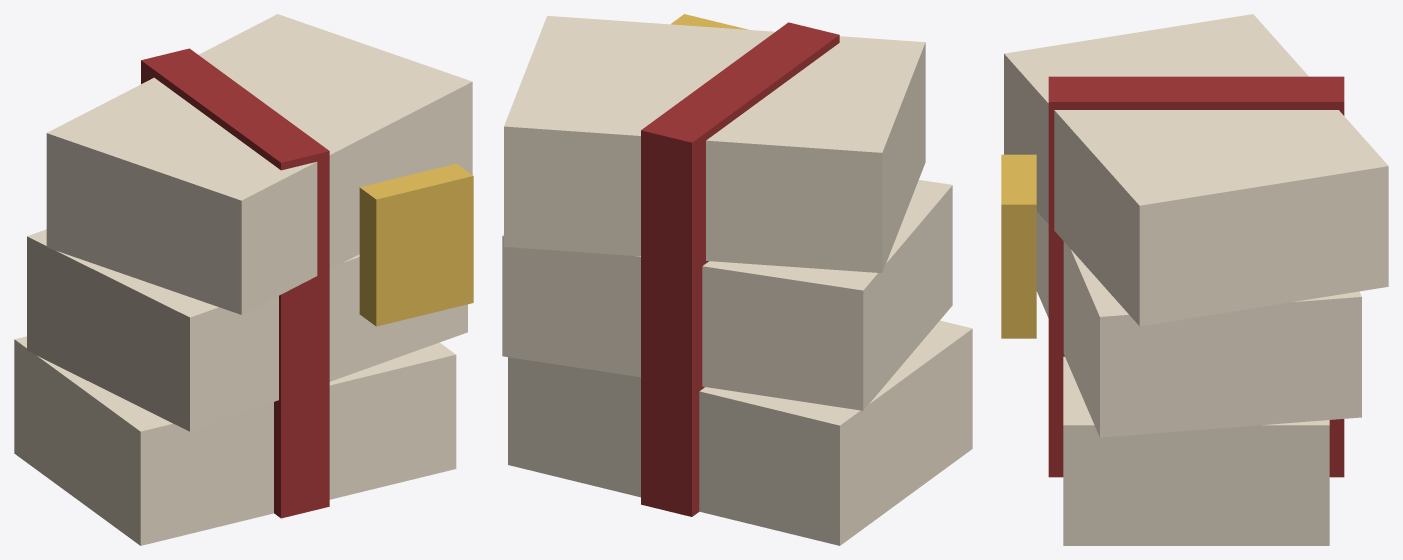
The model's file is prop_yakbongji.glb.
3 views of the same model, side by side, from view 1: azimuth 30°, elevation 25°; view 2: azimuth 150°, elevation 25°; view 3: azimuth 270°, elevation 25° (orthographic). The views are drawn at different scales.
Parts seen in each view (by area): view 1: prop_yakbongji; view 2: prop_yakbongji; view 3: prop_yakbongji.
Boxes of the visible parts, left/top/right/bottom form: prop_yakbongji: left=14, top=14, right=473, bottom=545; prop_yakbongji: left=502, top=14, right=972, bottom=545; prop_yakbongji: left=1001, top=14, right=1388, bottom=545.
Size of the model in its own units: 0.1537 by 0.14 by 0.131.
